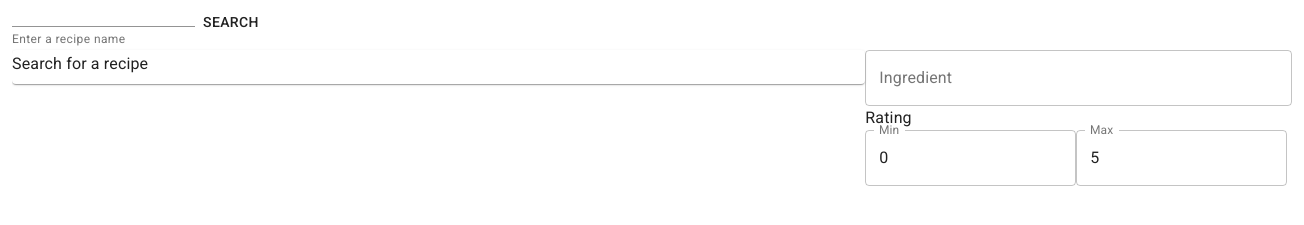
Scenario: tests for RecipeBrowser › tests for BrowserSearchOptions › if ratingMax is out of range [0,5] an error will be displayed
The width and height of the screenshot is (1304, 225).
Replace the text in the field with test id "maxRatingInput" with "7" at point(1182, 158), box x1=1076 y1=130 x2=1287 y2=186
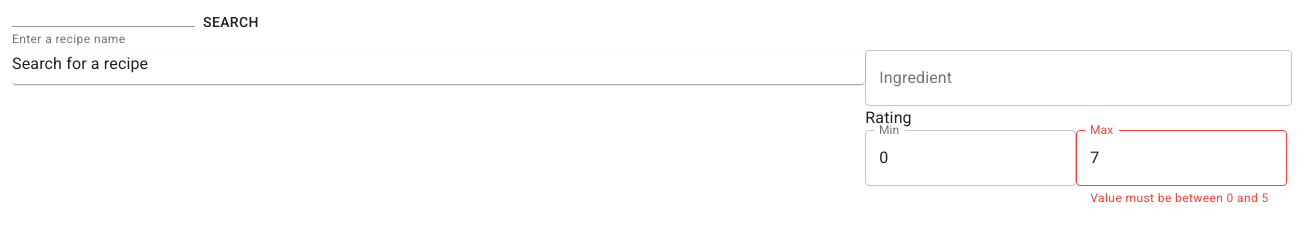
Result: the text "Value must be between 0 and 5" is shown at x1=1090 y1=189 x2=1273 y2=209
